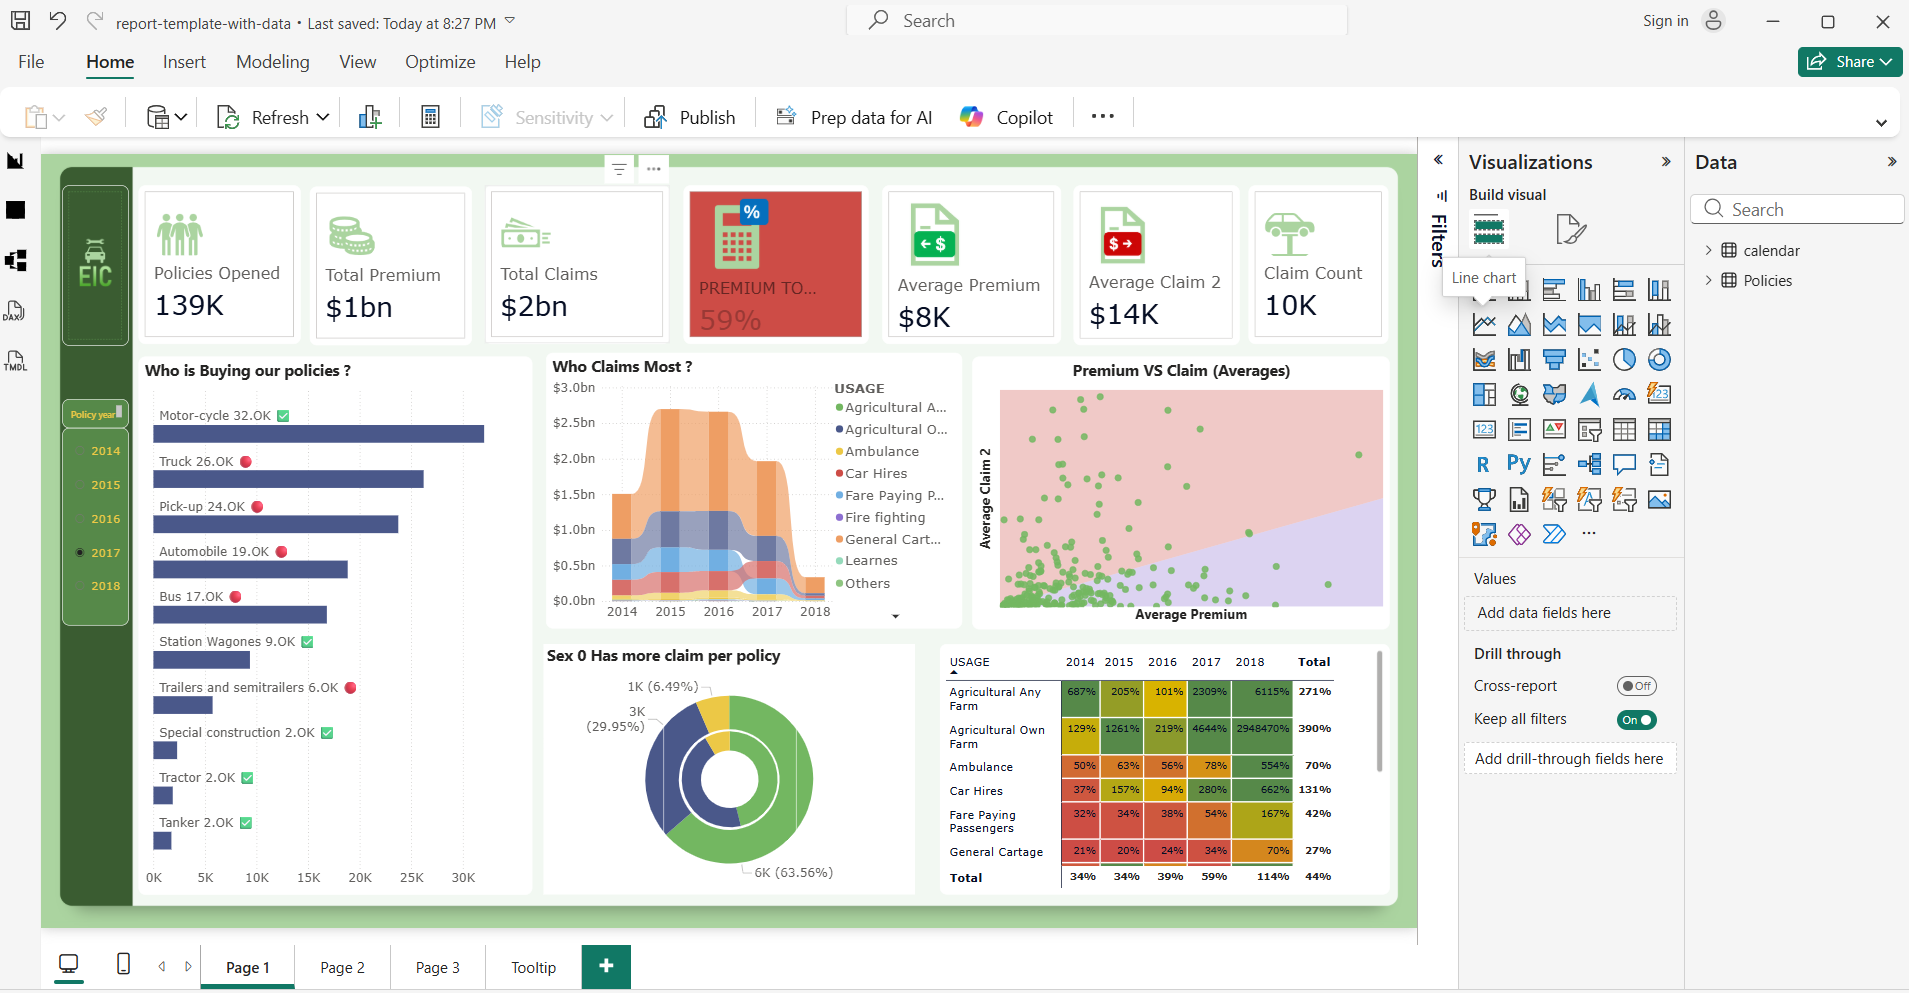

The page's visual inventory and layout, read from the dashboard file:
{"tool":"powerbi","page":{"name":"Page 1","canvas":[1920,1080],"ordinal":0},"visuals":[{"type":"cardVisual","fields":{"Data":["Policies.Policies Opened"]},"box":[136,43.6,226.7,221.5],"z":0},{"type":"cardVisual","fields":{"Data":["Policies.Total Premium"]},"box":[375,45.3,226.7,221.5],"z":1000},{"type":"cardVisual","fields":{"Data":["Policies.Total Claims"]},"box":[619.8,43.6,258.1,221.5],"z":2000},{"type":"cardVisual","fields":{"Data":["Policies.PREMIUM TO CLAIM RATIO"]},"box":[896.5,43.6,258.1,221.5],"z":3000},{"type":"cardVisual","fields":{"Data":["Policies.Average Premium"]},"box":[1173.3,43.6,249.4,221.5],"z":4000},{"type":"cardVisual","fields":{"Data":["Policies.Average Claim 2"]},"box":[1441.3,43.6,232,223.3],"z":5000},{"type":"cardVisual","fields":{"Data":["Policies.Claim Count"]},"box":[1684.9,43.6,195.3,221.5],"z":6000},{"type":"slicer","fields":{"Values":["calendar.Year"]},"box":[28.8,382.8,92.6,275.8],"z":7000},{"type":"clusteredBarChart","title":"Who is Buying our policies ?","fields":{"Category":["Policies.TYPE_VEHICLE"],"Y":["Policies.Dummy series","Policies.Policies Opened"]},"box":[135.8,282,549.6,751.3],"z":8000},{"type":"ribbonChart","title":"Who Claims Most ?","fields":{"Category":["calendar.Year"],"Y":["Policies.Total Claims"],"Series":["Policies.USAGE"]},"box":[703.9,277.9,580.4,384.9],"z":9000},{"type":"scatterChart","title":"Premium VS Claim (Averages)","fields":{"X":["Policies.Average Premium"],"Y":["Policies.Average Claim 2"],"Category":["Policies.TYPE_VEHICLE","Policies.MAKE"]},"box":[1298.8,282,582.5,380.8],"z":10000},{"type":"donutChart","title":"Sex 0 Has more claim per policy","fields":{"Category":["Policies.SEX"],"Y":["Policies.Claim Count"]},"box":[701.9,683.4,518.7,349.9],"z":11000},{"type":"donutChart","fields":{"Category":["Policies.SEX"],"Y":["Policies.Policies Opened"]},"box":[868.7,743.1,185.2,259.3],"z":12000},{"type":"pivotTable","fields":{"Rows":["Policies.USAGE"],"Columns":["calendar.Year"],"Values":["Policies.PREMIUM TO CLAIM RATIO"]},"box":[1253.5,683.4,627.8,349.9],"z":13000},{"type":"image","box":[28.8,43.2,92.6,224.4],"z":14000},{"type":"textbox","box":[28.8,341.7,92.6,41.2],"z":15000}]}

Visuals, with their boxes on the page's 1920x1080 design canvas (x1, y1, x2, y2). These are canvas units, not pixel positions in the 1909x993 screenshot, which may show the page scaled, cropped or inside an application window:
cardVisual - Policies.Policies Opened: 136:44:363:265
cardVisual - Policies.Total Premium: 375:45:602:267
cardVisual - Policies.Total Claims: 620:44:878:265
cardVisual - Policies.PREMIUM TO CLAIM RATIO: 896:44:1155:265
cardVisual - Policies.Average Premium: 1173:44:1423:265
cardVisual - Policies.Average Claim 2: 1441:44:1673:267
cardVisual - Policies.Claim Count: 1685:44:1880:265
slicer - calendar.Year: 29:383:121:659
"Who is Buying our policies ?" clusteredBarChart: 136:282:685:1033
"Who Claims Most ?" ribbonChart: 704:278:1284:663
"Premium VS Claim (Averages)" scatterChart: 1299:282:1881:663
"Sex 0 Has more claim per policy" donutChart: 702:683:1221:1033
donutChart - Policies.SEX x Policies.Policies Opened: 869:743:1054:1002
pivotTable - Policies.USAGE x calendar.Year: 1254:683:1881:1033
image: 29:43:121:268
textbox: 29:342:121:383
